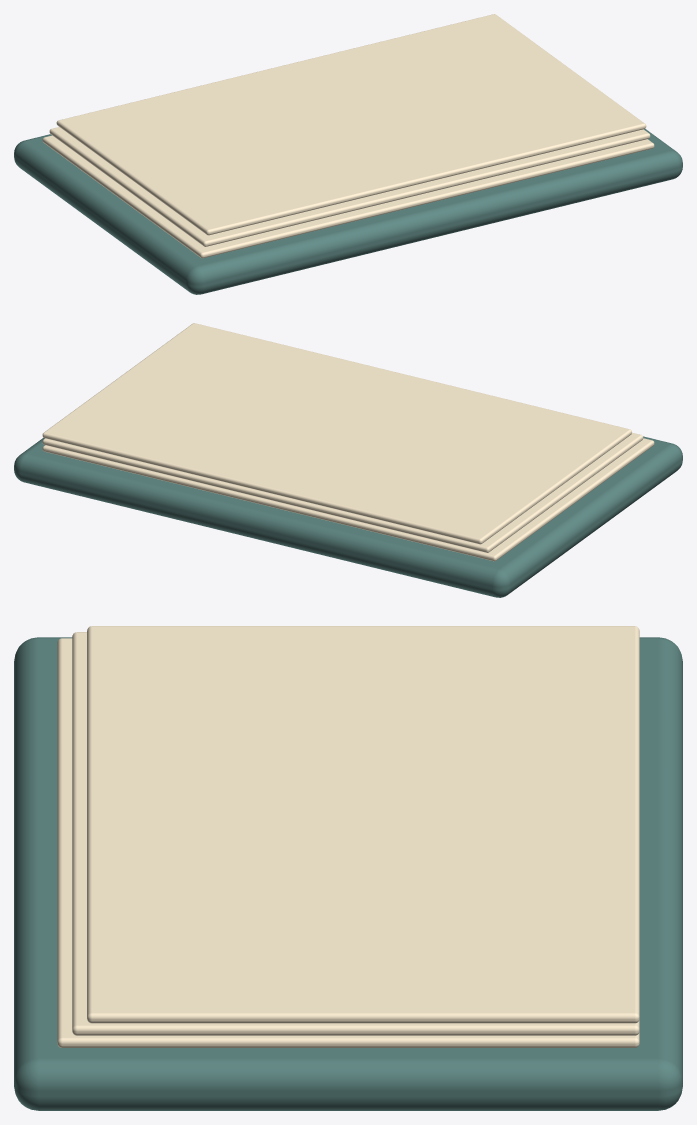
Rendered from paper-board.glb.
3 views of the same model, one above another, from view 1: azimuth 30°, elevation 25°; view 2: azimuth 150°, elevation 25°; view 3: azimuth 270°, elevation 25° (orthographic). The views are drawn at different scales.
Visible parts, largest first — view 1: Paper_sheet_2, Paper_board, Paper_sheet_0, Paper_sheet_1; view 2: Paper_sheet_2, Paper_board, Paper_sheet_0, Paper_sheet_1; view 3: Paper_sheet_2, Paper_board, Paper_sheet_0, Paper_sheet_1.
Boxes of the visible parts, <box> form: Paper_sheet_2: <box>56,14,646,235</box>; Paper_board: <box>14,129,682,294</box>; Paper_sheet_0: <box>42,135,654,258</box>; Paper_sheet_1: <box>49,127,650,246</box>; Paper_sheet_2: <box>42,323,631,544</box>; Paper_board: <box>14,436,682,597</box>; Paper_sheet_0: <box>42,438,654,561</box>; Paper_sheet_1: <box>42,432,643,552</box>; Paper_sheet_2: <box>87,626,639,1023</box>; Paper_board: <box>14,637,682,1110</box>; Paper_sheet_0: <box>57,638,639,1047</box>; Paper_sheet_1: <box>72,632,639,1035</box>.
Size of the model in its own units: 0.84 by 0.0765 by 0.54.
